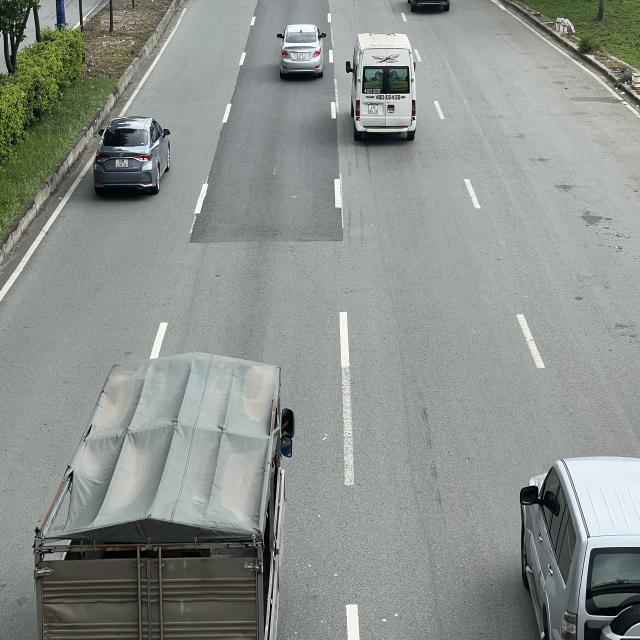car: (518, 453, 640, 640), (92, 114, 172, 194), (278, 22, 326, 74)
truck: (33, 350, 293, 640)
van: (345, 31, 418, 140)
